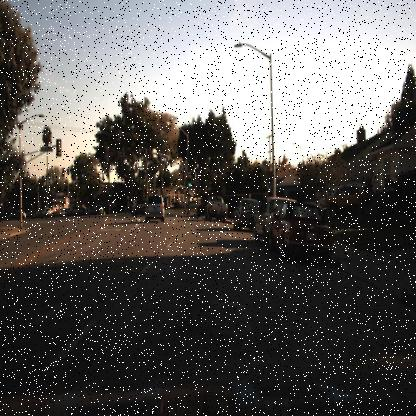car: (272, 197, 336, 275), (267, 198, 335, 261), (321, 182, 374, 218), (250, 196, 281, 245), (253, 190, 276, 250), (201, 189, 230, 229), (232, 196, 255, 235), (231, 198, 252, 233), (144, 192, 165, 224), (130, 196, 146, 227), (118, 193, 133, 220), (130, 194, 145, 216), (64, 204, 80, 220), (42, 204, 54, 217)
trafficLight-Green: (186, 177, 194, 193), (78, 168, 86, 183), (108, 186, 113, 202), (188, 177, 192, 189)
trafficLight-Red: (58, 161, 66, 182)
